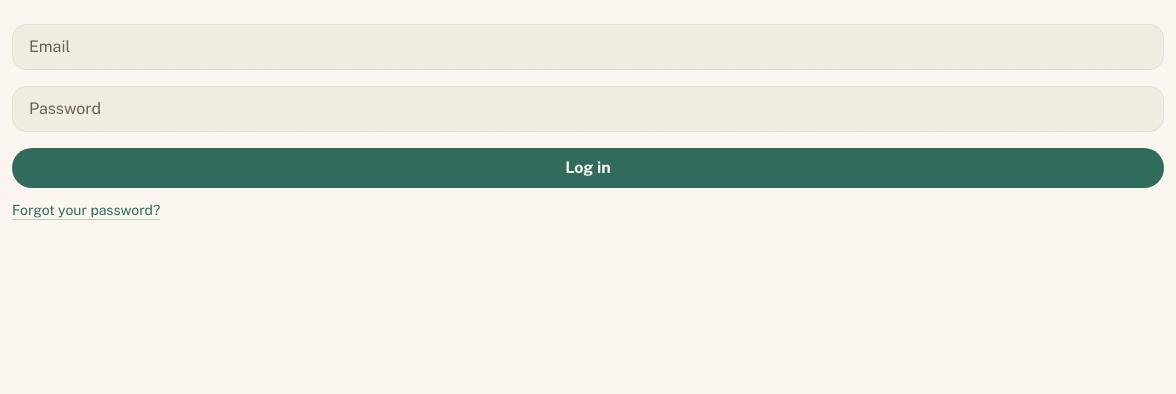
Test: LoginForm destination › goes nowhere when the sign-in fails
Type "member@example.test" into the field with placeholder "Email" at coordinates (588, 47), box [12,24,1164,70]
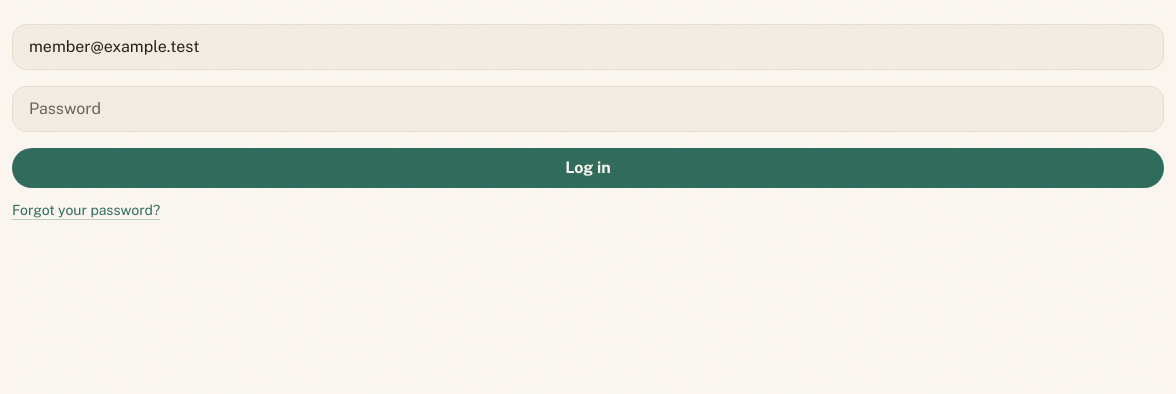
Type "correct horse" into the password field with placeholder "Password" at coordinates (588, 109), box [12,86,1164,132]
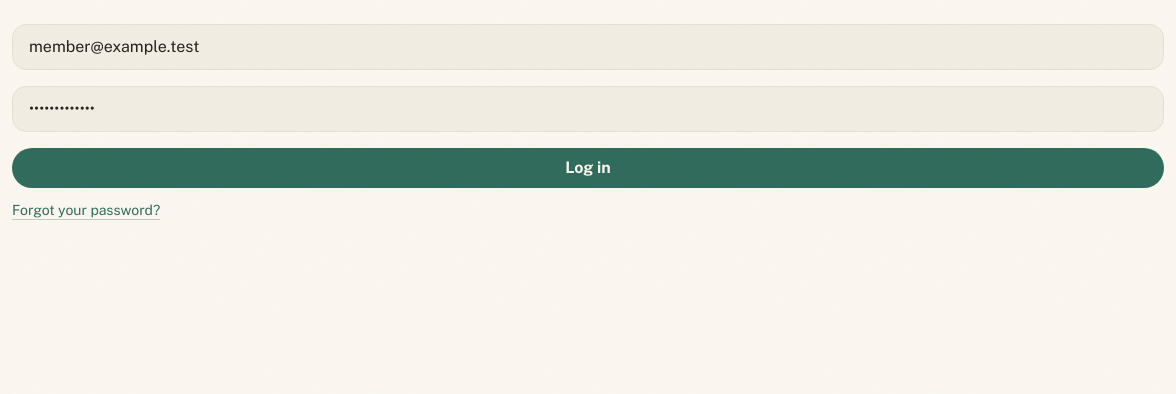
Click the button "Log in" at coordinates (588, 168), box [12,148,1164,188]
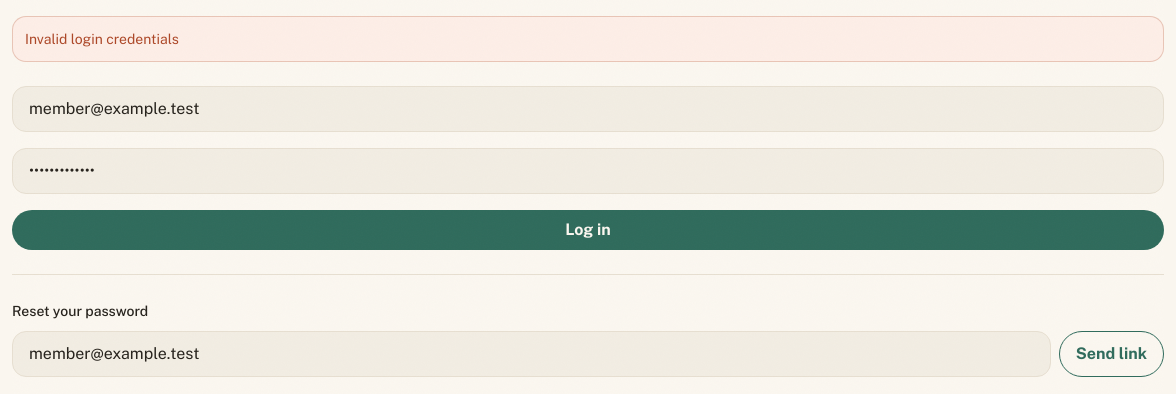
Expected: the field labelled "Reset your password" is shown, [12,331,1051,377]
